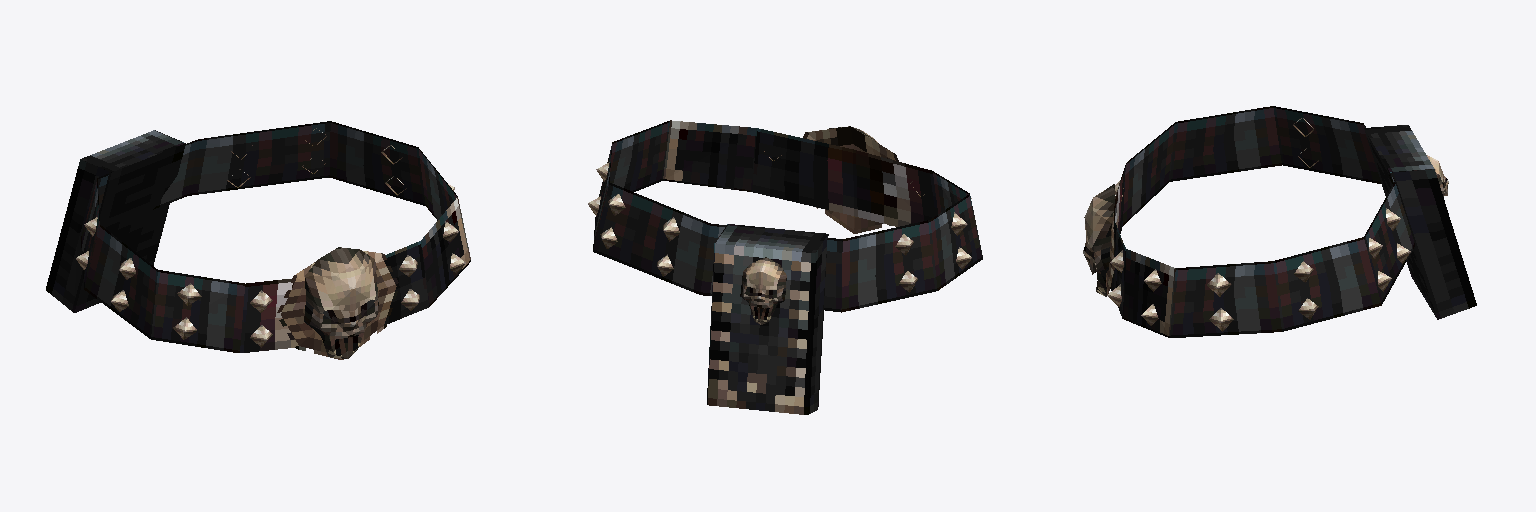
3 views of the same model, side by side, from view 1: azimuth 30°, elevation 25°; view 2: azimuth 150°, elevation 25°; view 3: azimuth 270°, elevation 25° (orthographic).
Parts seen in each view (by area): view 1: mesh00; view 2: mesh00; view 3: mesh00.
Boxes of the visible parts, <box> form: mesh00: <box>46,121,470,359</box>; mesh00: <box>588,120,982,414</box>; mesh00: <box>1083,106,1476,337</box>.
Size of the model in its own units: 36.56 by 15.55 by 35.72.
Materials: 1 (1 with a texture image).